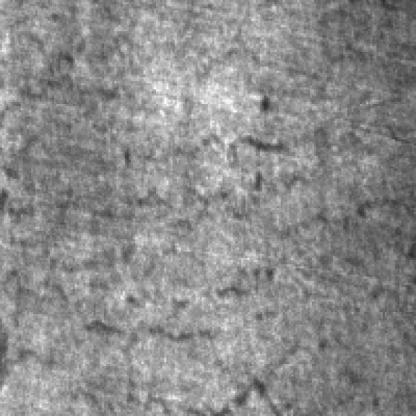crazing: (6, 197, 414, 348), (4, 10, 179, 240), (48, 306, 362, 414), (135, 104, 387, 237)
